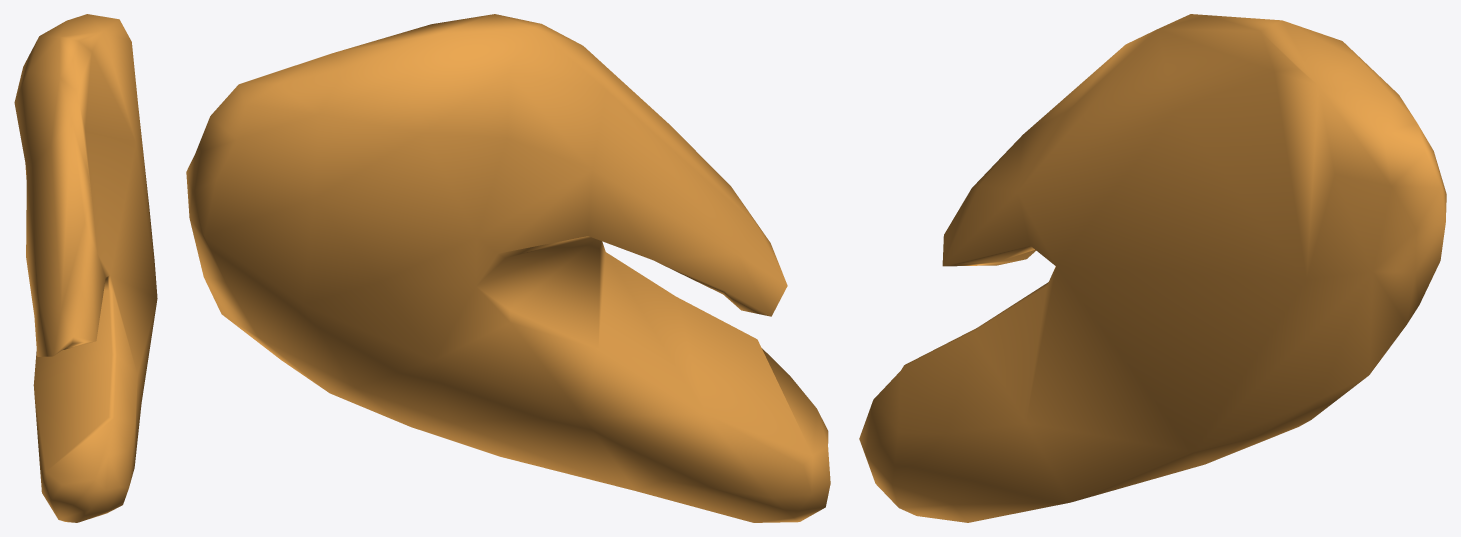
Rendered from visceras-submandibular-gland-l.glb.
The picture shows the model from 3 angles, left to right: view 1: azimuth 30°, elevation 25°; view 2: azimuth 150°, elevation 25°; view 3: azimuth 270°, elevation 25°; orthographic projection. The views are drawn at different scales.
Visible parts, largest first — view 1: Submandibular gland.l; view 2: Submandibular gland.l; view 3: Submandibular gland.l.
Boxes of the visible parts, left/top/right/bottom form: Submandibular gland.l: left=14, top=14, right=157, bottom=522; Submandibular gland.l: left=186, top=14, right=830, bottom=522; Submandibular gland.l: left=859, top=14, right=1446, bottom=522.
Size of the model in its own units: 0.0157 by 0.0226 by 0.0217.
